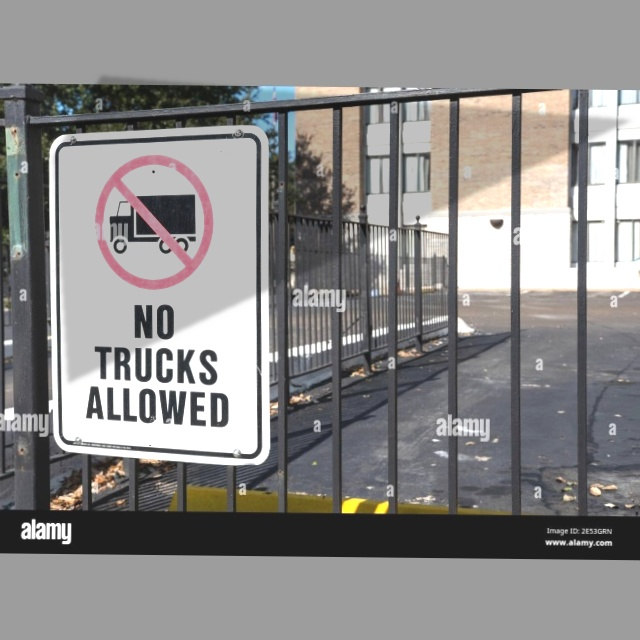Truck_Prohibited: (86, 143, 220, 301)
